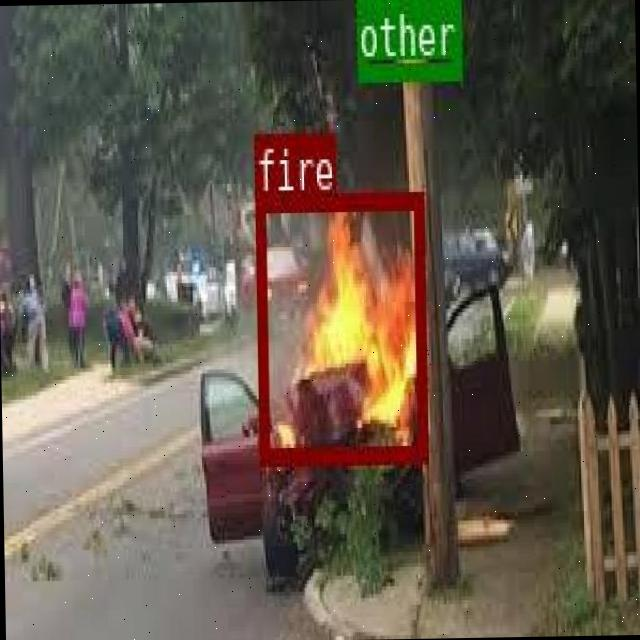fire: (253, 191, 424, 463)
